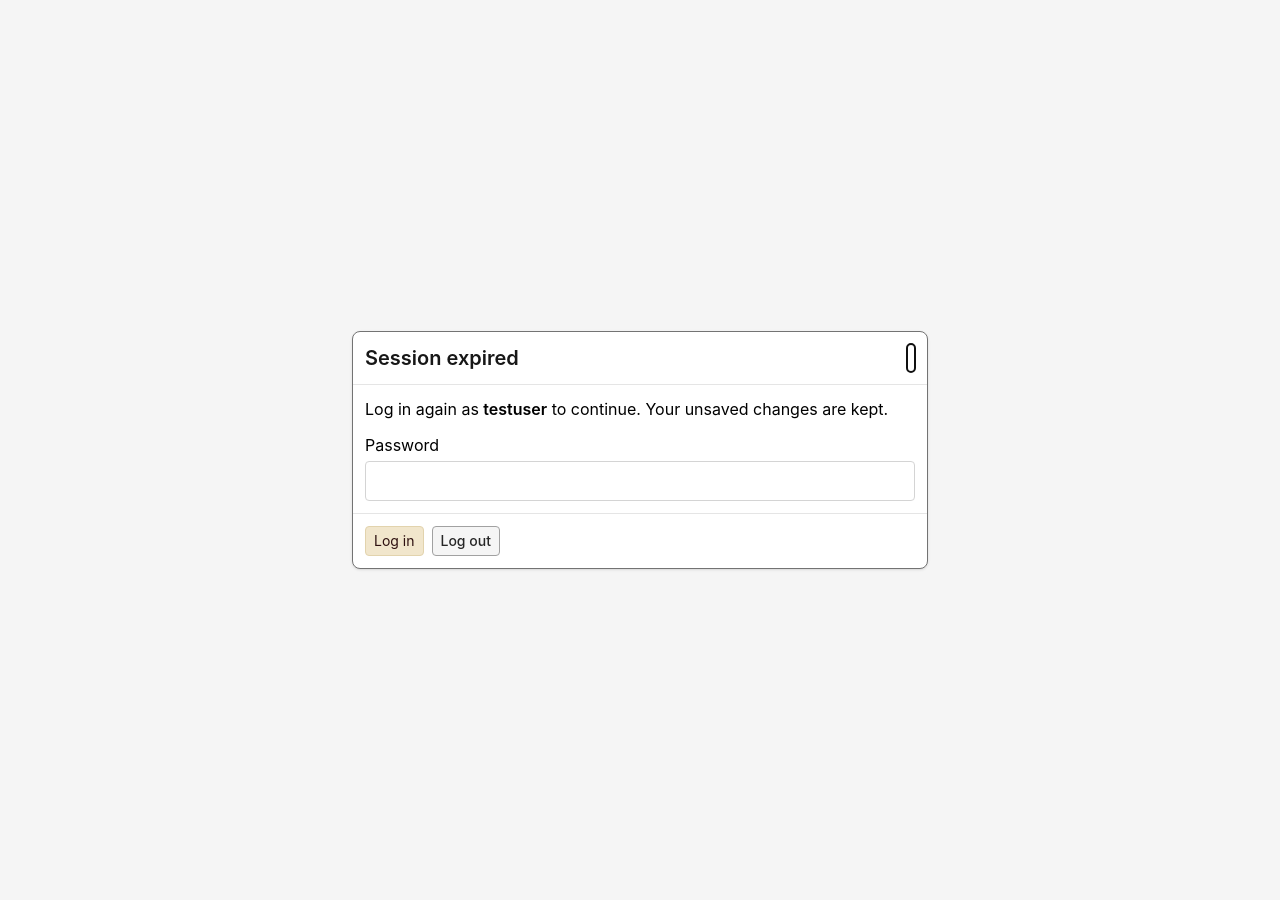
Test: SessionLoginDialog › shows a wrong password
The width and height of the screenshot is (1280, 900).
Type "wrong" into the password field labelled "Password" at (640, 481), box [365,461,915,501]
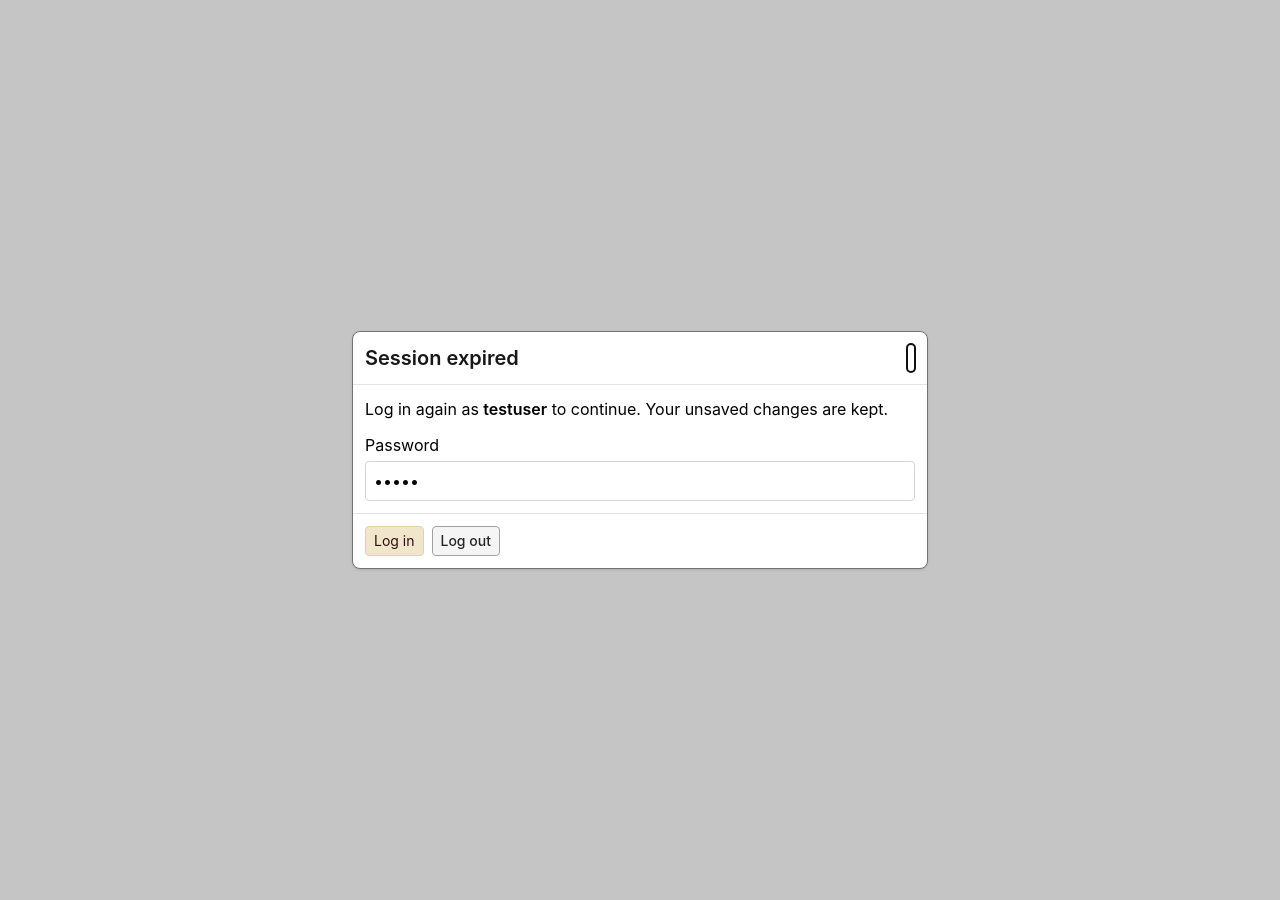
Click the button "Log in" at (394, 541), box [365,526,424,556]
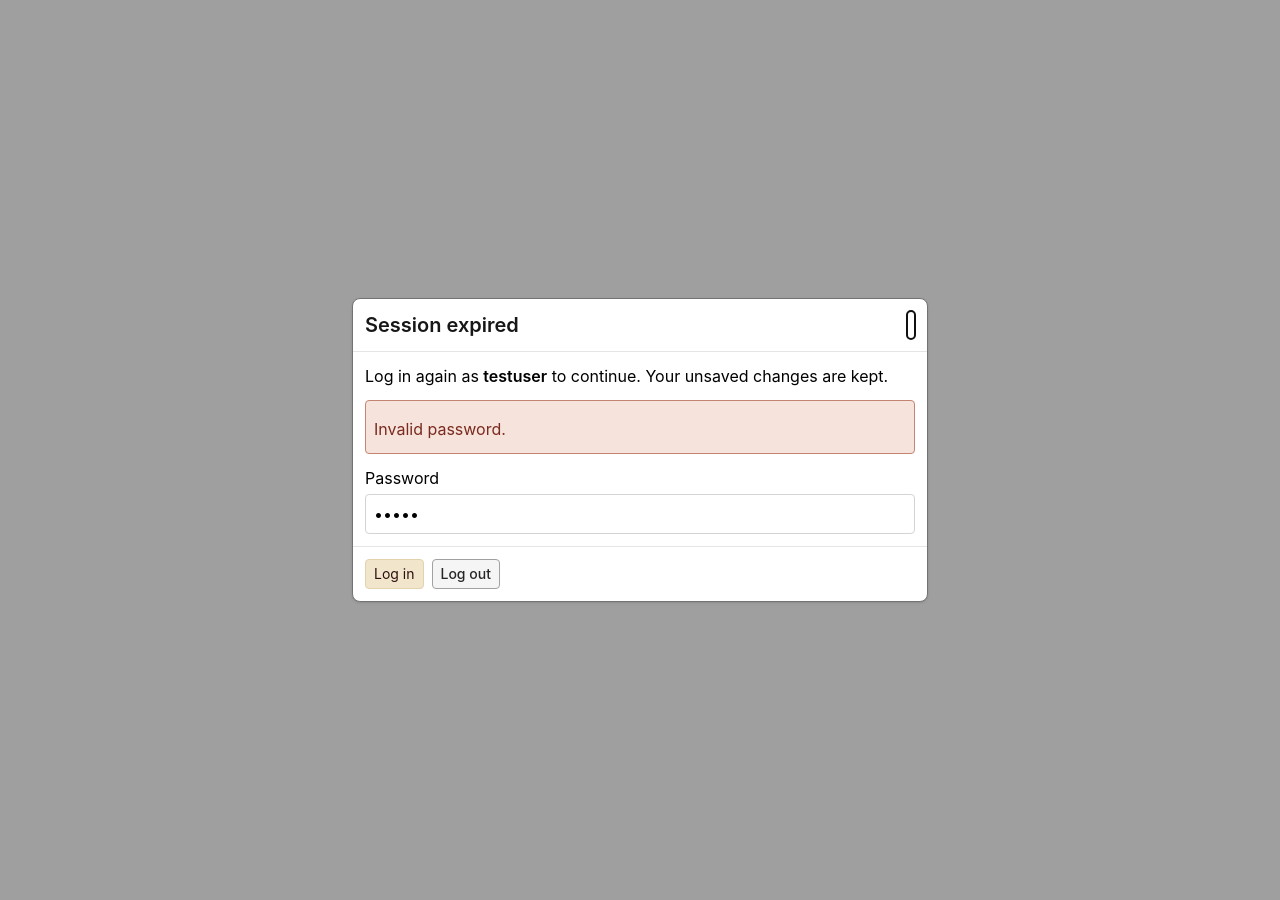
Check: the text "Invalid password." is shown, box [374,413,506,441]
